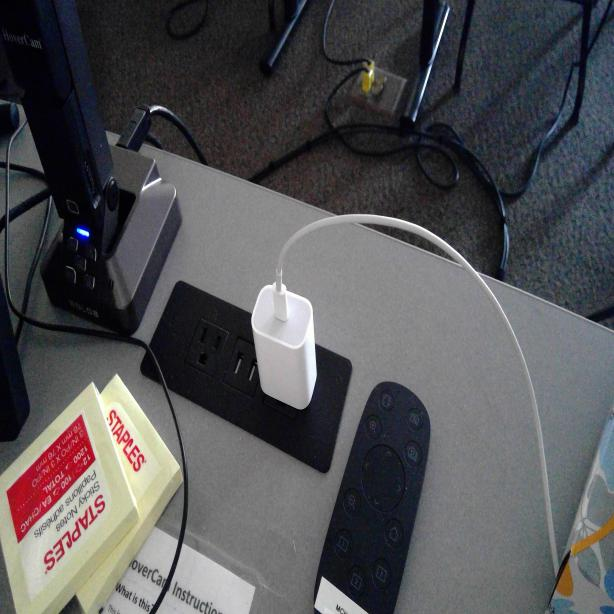typeb: (187, 317, 224, 371)
